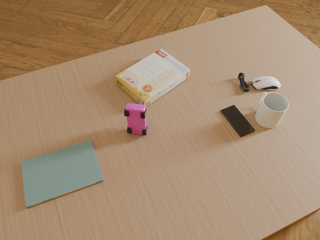book: (21, 140, 103, 208)
box: (115, 49, 190, 107)
cup: (255, 92, 289, 128)
mouse: (251, 76, 281, 90)
phone: (221, 105, 255, 137)
toy_car: (124, 103, 147, 135)
